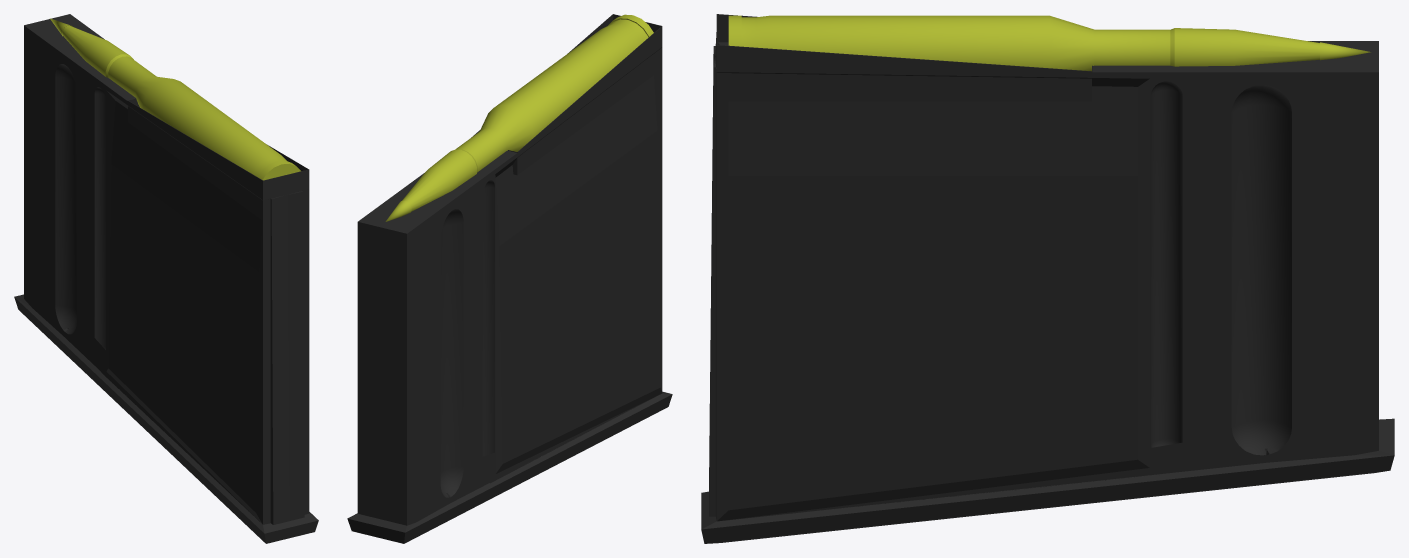
Rendered from mag.FBX.
The picture shows the model from 3 angles, left to right: view 1: azimuth 30°, elevation 25°; view 2: azimuth 150°, elevation 25°; view 3: azimuth 270°, elevation 25°; orthographic projection. The views are drawn at different scales.
Visible parts, largest first — view 1: Mag002, Bullet006; view 2: Mag002, Bullet006; view 3: Mag002, Bullet006.
Boxes of the visible parts, x1,y1,x2,y2 form: Mag002: (14,14,318,543); Bullet006: (50,18,300,180); Mag002: (347,14,672,543); Bullet006: (385,14,653,221); Mag002: (701,14,1394,543); Bullet006: (728,15,1370,71).
Bounding box in the file's own units: 2.27 × 14.74 × 18.16.
